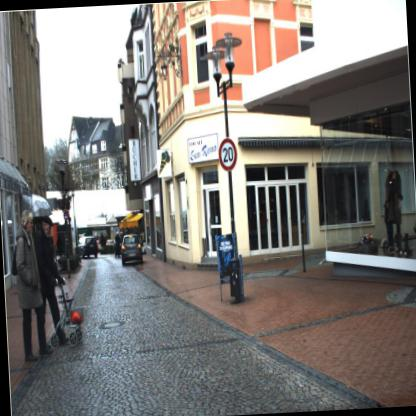prohibitory: (214, 130, 239, 176)
